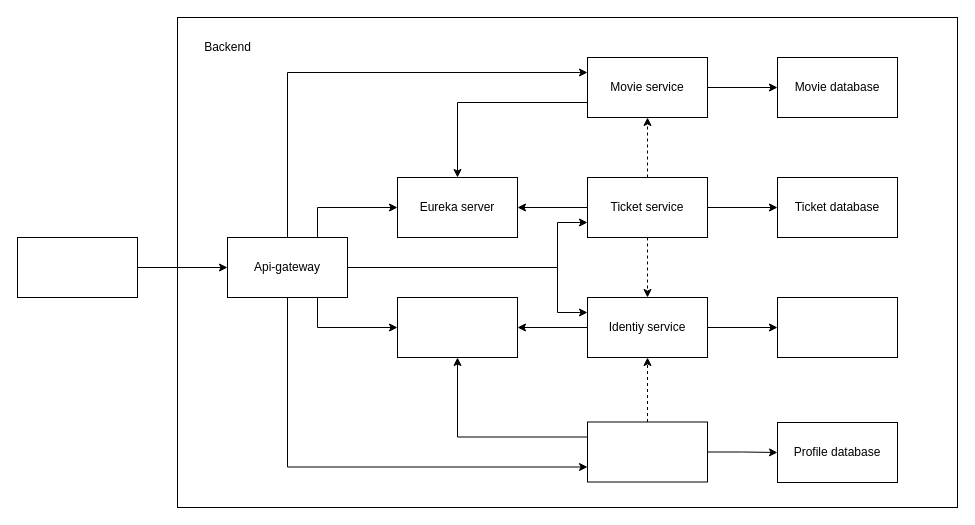
This 975x525 diagram has some shape labels left out. The centre of each missing label's shape, as x and y in pixels:
Config server: (x=457, y=327)
Identity database: (x=837, y=327)
Profile service: (x=647, y=451)
React app: (x=77, y=267)
